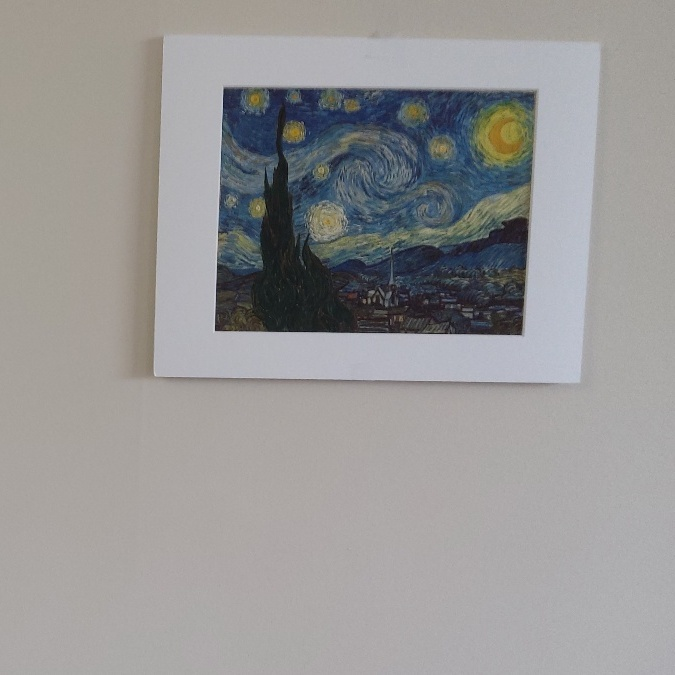painting: (214, 75, 538, 346)
